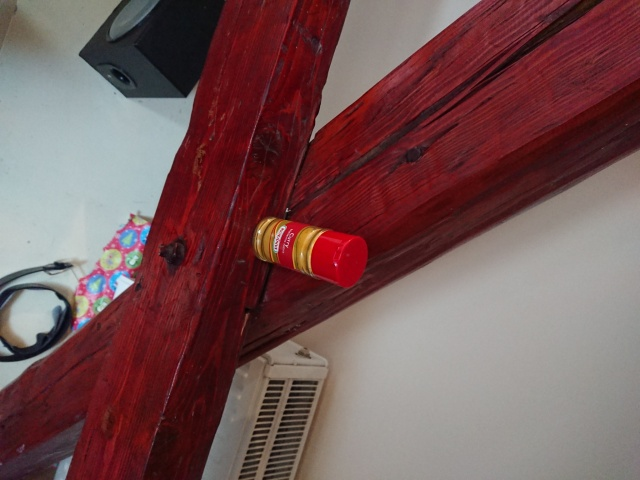Kotanyi Curry Spices Mix 70g: (249, 213, 370, 291)
